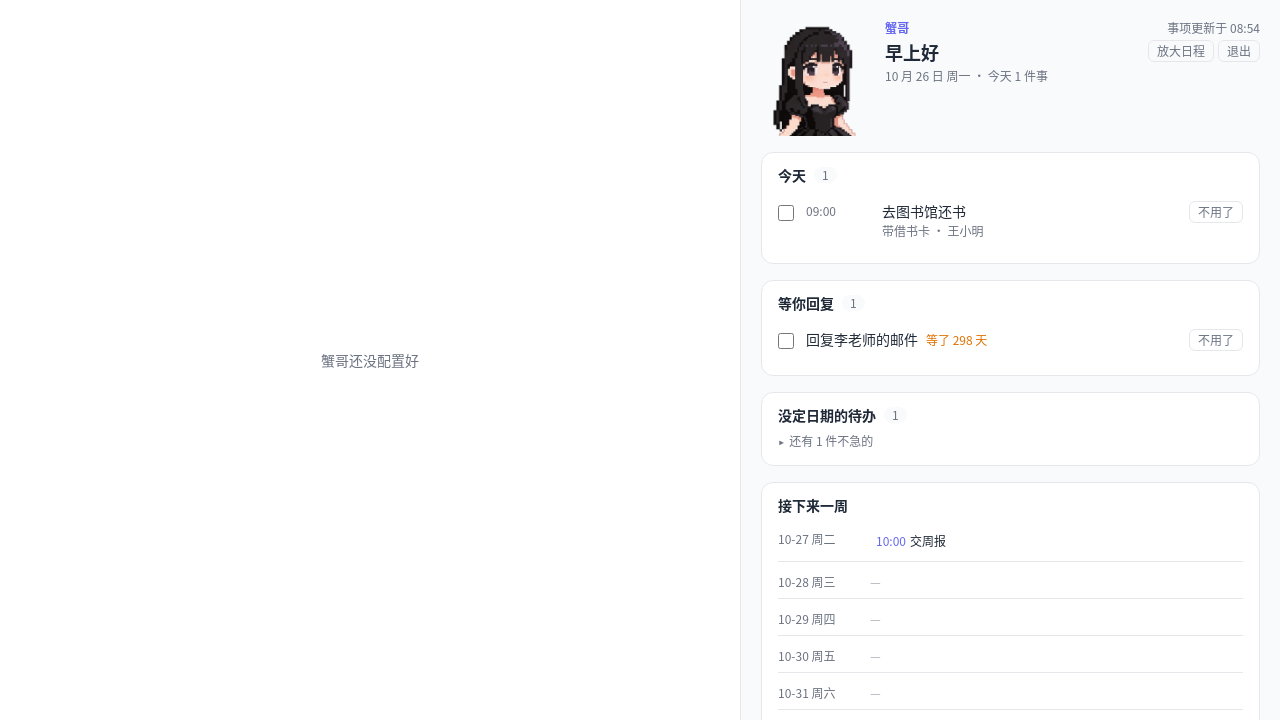
Test: AssistantPage › shows the save-failed banner and frees the checkbox when the POST returns 500 (StrictMode)
Click the checkbox named "做完了：去图书馆还书": x=786, y=213 [778, 205, 794, 221]
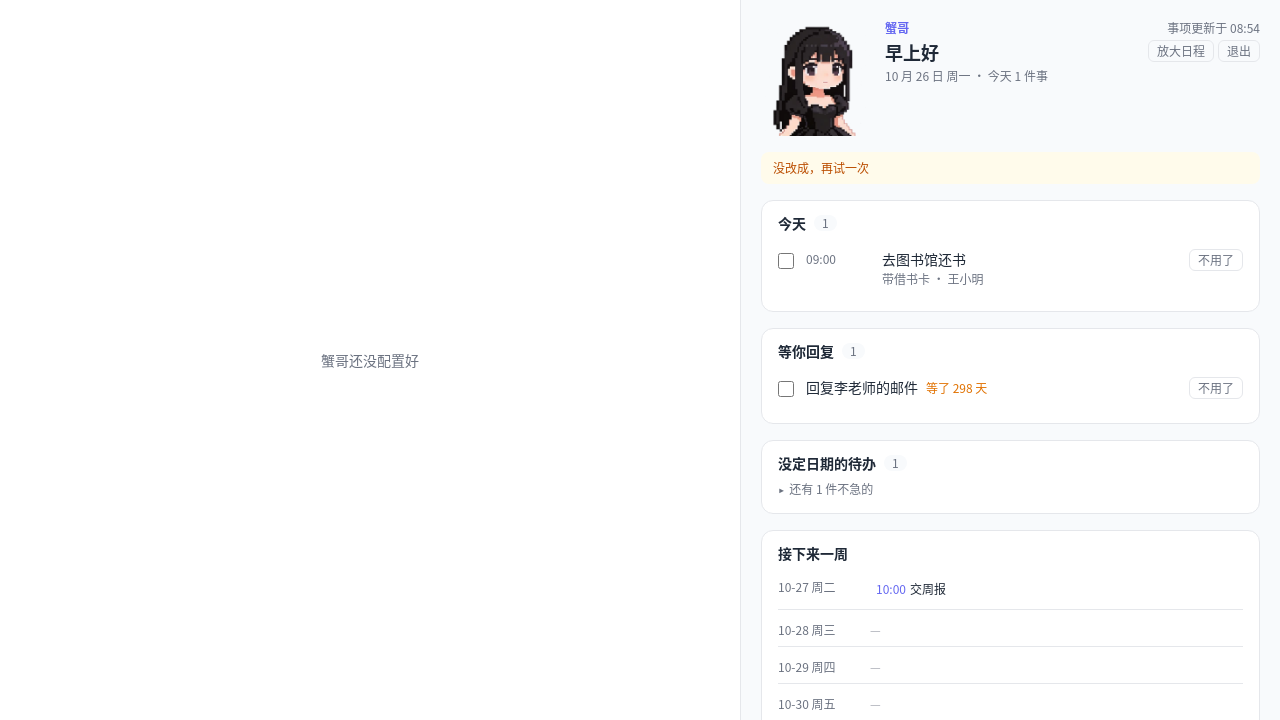
Expected: the checkbox named "做完了：去图书馆还书" is not checked, [778, 253, 794, 269]
Expected: the text "没改成，再试一次" is shown, [761, 152, 1260, 184]
